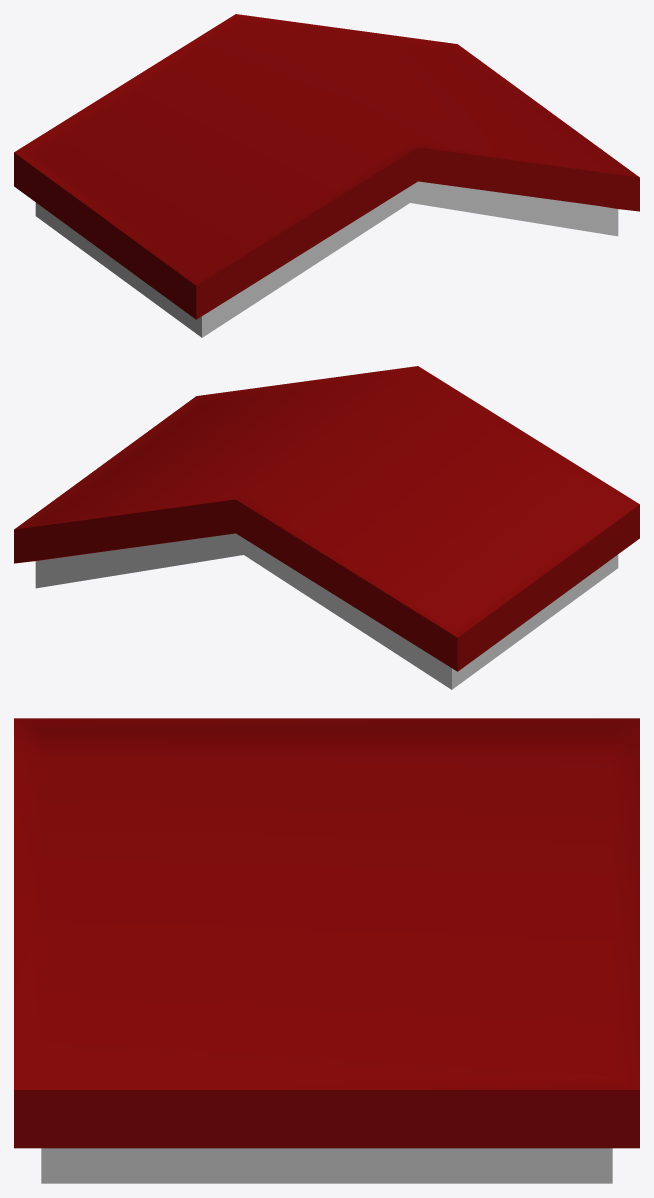
Rendered from Floor Book 1.fbx.
3 views of the same model, one above another, from view 1: azimuth 30°, elevation 25°; view 2: azimuth 150°, elevation 25°; view 3: azimuth 270°, elevation 25° (orthographic). The views are drawn at different scales.
Parts seen in each view (by area): view 1: pCube1; view 2: pCube1; view 3: pCube1.
Boxes of the visible parts, left/top/right/bottom form: pCube1: left=14, top=14, right=639, bottom=337; pCube1: left=14, top=366, right=639, bottom=689; pCube1: left=14, top=718, right=639, bottom=1183.
Size of the model in its own units: 3.22 by 1.01 by 2.29.
